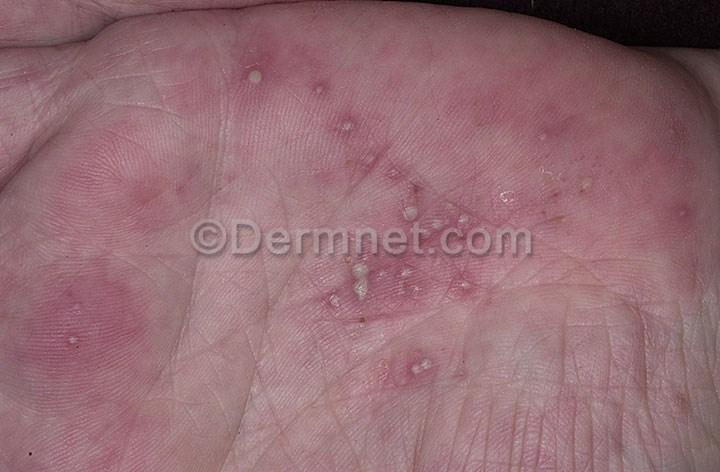Eczema: (346, 258, 372, 306), (396, 266, 422, 307), (406, 357, 445, 381), (241, 61, 270, 91), (65, 327, 92, 355), (399, 199, 425, 225), (323, 290, 344, 319), (65, 295, 88, 321), (497, 187, 523, 209), (212, 187, 237, 209), (377, 356, 395, 386), (356, 150, 380, 172), (308, 163, 338, 180), (344, 324, 367, 346), (453, 210, 481, 228), (546, 184, 567, 207), (539, 208, 567, 225), (352, 312, 378, 330), (577, 174, 596, 198), (334, 119, 357, 138), (387, 164, 407, 185), (459, 276, 477, 299), (170, 180, 190, 200), (429, 213, 447, 235), (311, 80, 331, 99), (452, 367, 473, 383), (295, 43, 314, 59), (306, 63, 325, 79), (535, 128, 552, 144), (676, 205, 690, 224), (259, 50, 274, 61)
